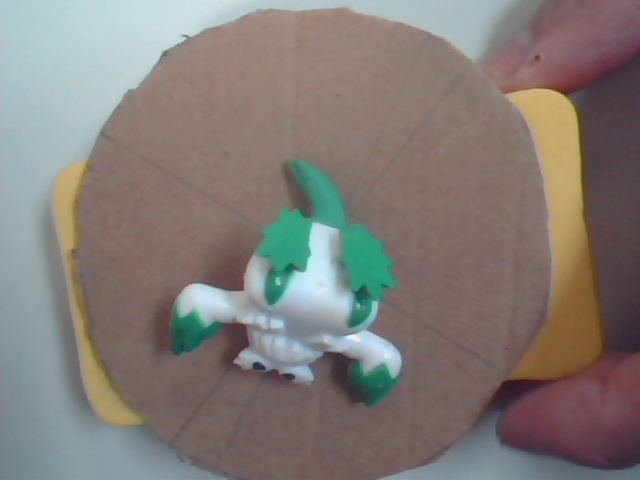abomasnow: (164, 107, 486, 404)
